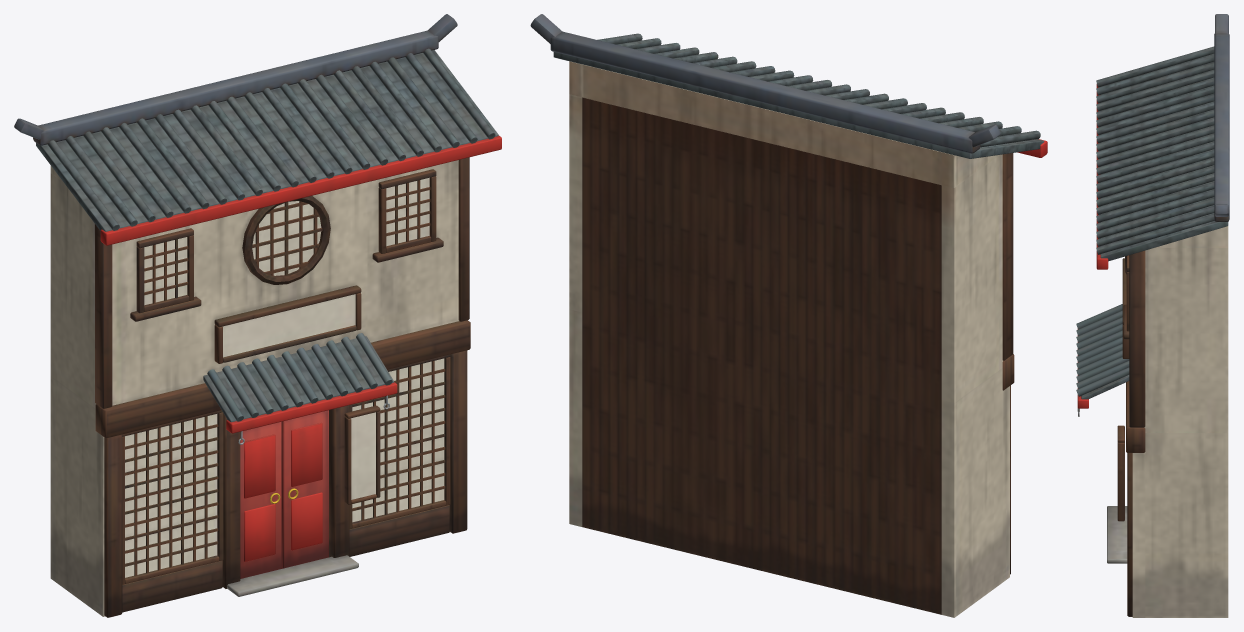
The model's file is tea_house.glb.
3 renders of one model, left to right at view 1: azimuth 30°, elevation 25°; view 2: azimuth 150°, elevation 25°; view 3: azimuth 270°, elevation 25°, orthographic. The views are drawn at different scales.
Visible parts, largest first — view 1: tea_house; view 2: tea_house; view 3: tea_house.
Part boxes in pixels (x1=…): tea_house: x1=14, y1=14, x2=501, y2=617; tea_house: x1=530, y1=14, x2=1047, y2=617; tea_house: x1=1076, y1=14, x2=1229, y2=617.
Bounding box in the file's own units: 7.23 × 7.39 × 2.4.
10 materials, 10 textured.
